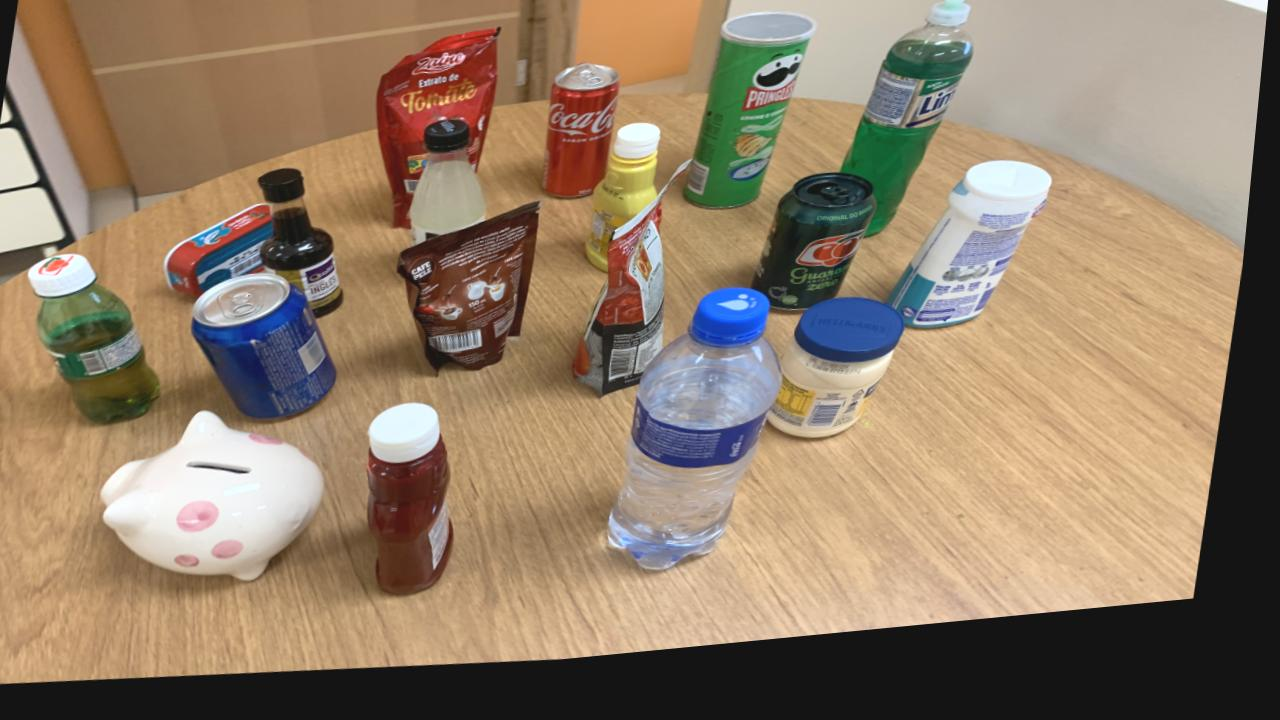Cleaner-Cleanup_Items: (894, 182, 1058, 347)
Coffee-Pantry_Items: (401, 214, 546, 380)
Coke-Drinks: (545, 76, 623, 210)
Detergent-Cleanup_Items: (844, 11, 976, 255)
English_Sauce-Pantry_Items: (261, 175, 349, 326)
Guarana-Drinks: (32, 255, 168, 426)
Guarana_Can-Drinks: (758, 190, 882, 328)
Ketchup-Pantry_Items: (376, 413, 464, 605)
Mayonnaise-Pantry_Items: (775, 315, 913, 457)
Mustard-Pantry_Items: (591, 136, 664, 284)
Pig_Safe-Miscellaneous: (110, 416, 335, 586)
Pringles-Snacks: (688, 28, 818, 223)
Soda-Drinks: (413, 128, 491, 254)
Tomato_Sauce-Pantry_Items: (579, 180, 689, 409), (378, 39, 501, 238)
Tonic-Drinks: (198, 280, 344, 425)
Tuna_Can-Pantry_Items: (169, 209, 278, 301)
Water_Bottle-Drinks: (619, 303, 791, 584)
